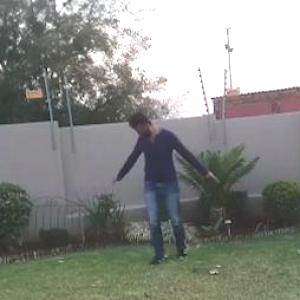land: (89, 99, 212, 279)
